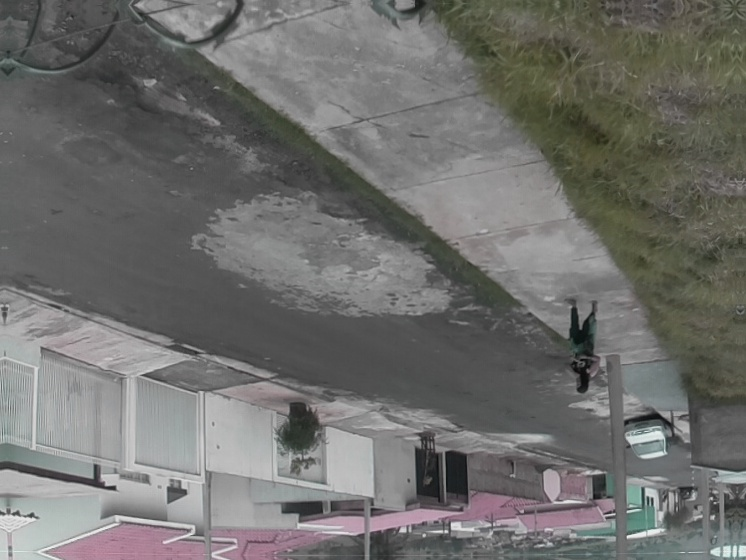person: (559, 295, 604, 395)
